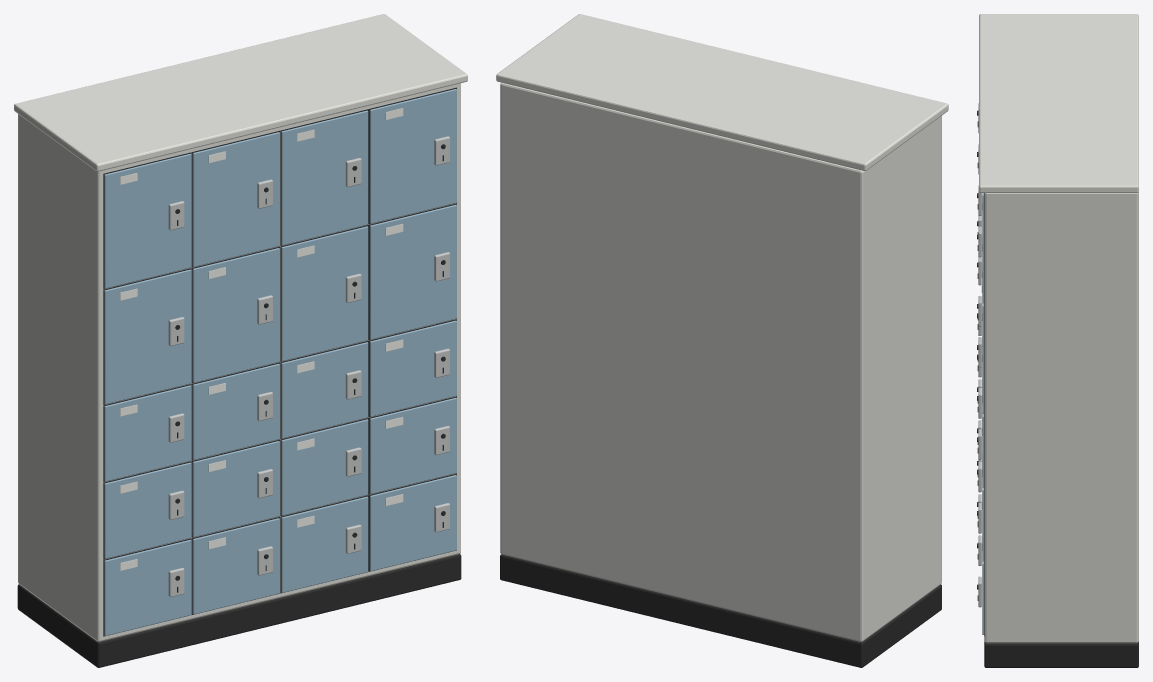
File: city-coin-locker-bank.glb
3 views of the same model, side by side, from view 1: azimuth 30°, elevation 25°; view 2: azimuth 150°, elevation 25°; view 3: azimuth 270°, elevation 25° (orthographic). The views are drawn at different scales.
Visible parts, largest first — view 1: Assembly | Pale blue locker door, Assembly | Off-white locker enamel, Assembly | Locker shadow line, Assembly | Brushed stainless lock, Assembly | Blank number plate; view 2: Assembly | Off-white locker enamel, Assembly | Locker shadow line; view 3: Assembly | Off-white locker enamel, Assembly | Locker shadow line, Assembly | Brushed stainless lock, Assembly | Pale blue locker door, Assembly | Blank number plate.
Part boxes in pixels (x1,y1,x2,y2): Assembly | Pale blue locker door: [104, 89, 456, 635]; Assembly | Off-white locker enamel: [14, 14, 467, 641]; Assembly | Locker shadow line: [17, 87, 461, 667]; Assembly | Brushed stainless lock: [168, 136, 449, 597]; Assembly | Blank number plate: [120, 108, 403, 570]; Assembly | Off-white locker enamel: [496, 14, 948, 641]; Assembly | Locker shadow line: [500, 554, 941, 667]; Assembly | Off-white locker enamel: [979, 14, 1138, 643]; Assembly | Locker shadow line: [977, 110, 1138, 667]; Assembly | Brushed stainless lock: [978, 103, 981, 607]; Assembly | Pale blue locker door: [982, 193, 983, 634]; Assembly | Blank number plate: [981, 195, 982, 550].
Bounding box in the file's own units: 1.51 × 1.97 × 0.597.
